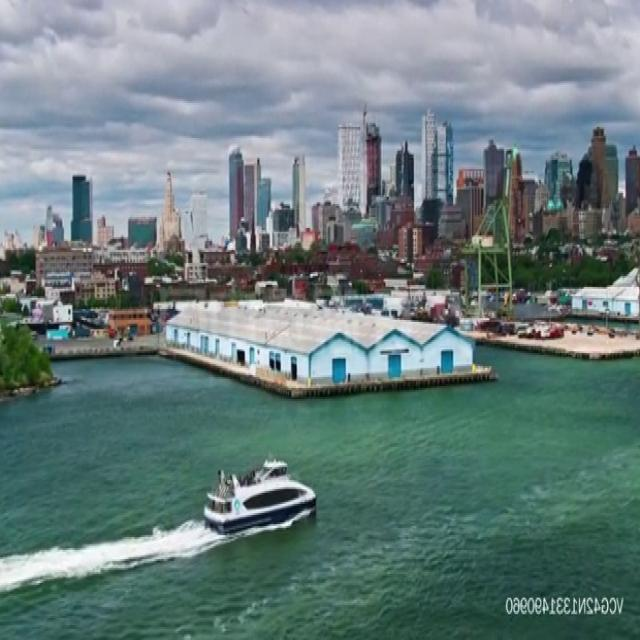houseboat: (206, 450, 316, 530)
